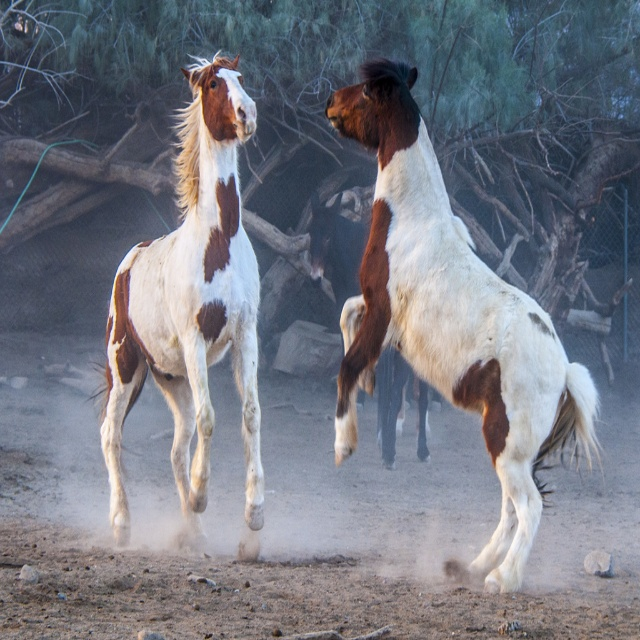Horse: (323, 57, 608, 603), (90, 47, 259, 554)
